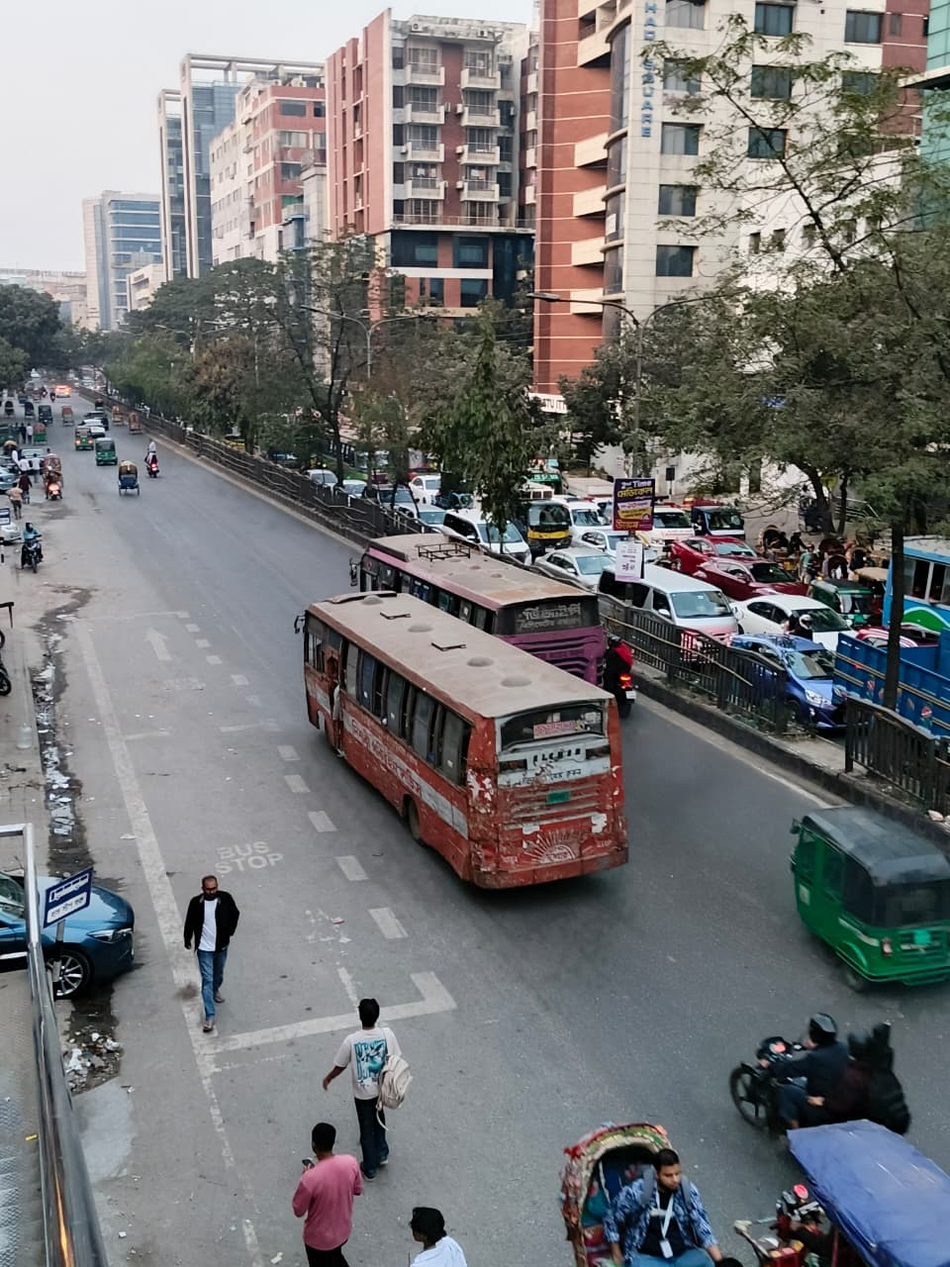Bus: (267, 522, 644, 901)
cng: (775, 796, 950, 1003)
